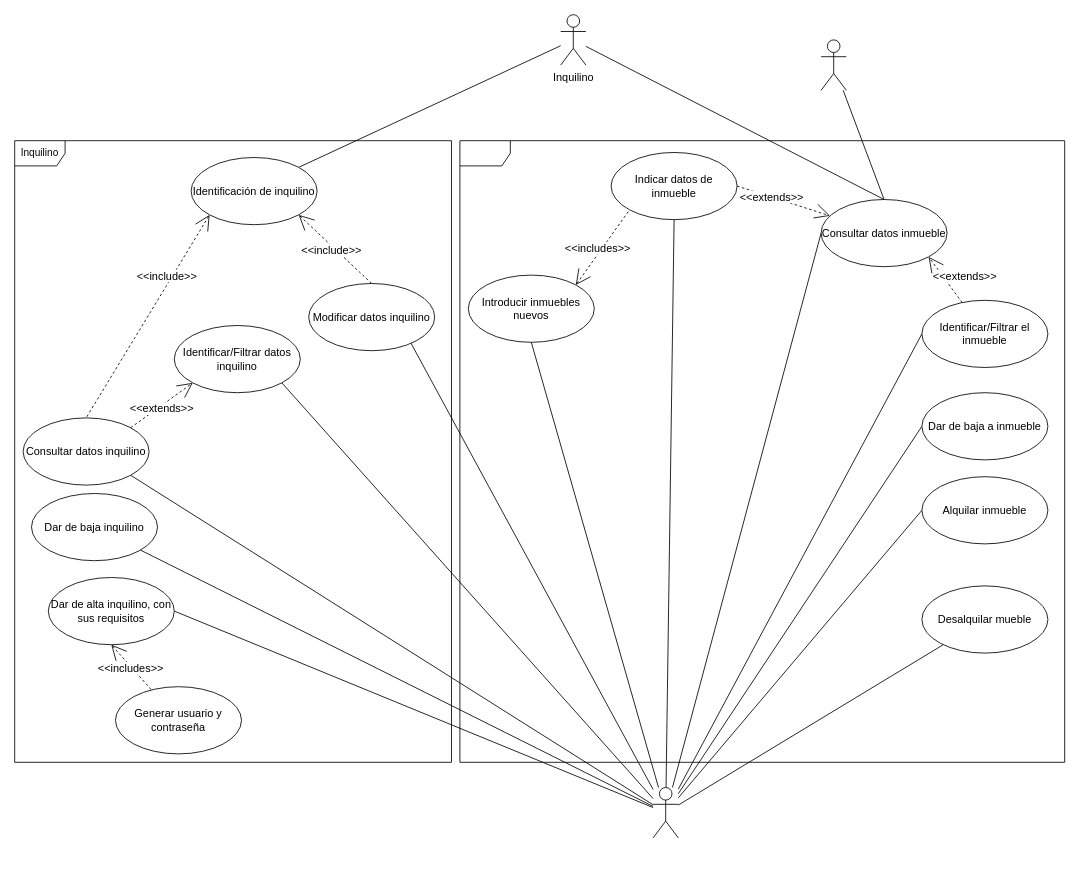
The diagram is 1079 pixels wide and 872 high, and some of its shapes have lost their labels. The shapes that lost their labels are listed below. From the top down, each one's centre as x and y in pixels, then its label:
At [833,64]: "Usuario Público".
At [762,451]: "Inmueble".
At [665,812]: "Empresa".
